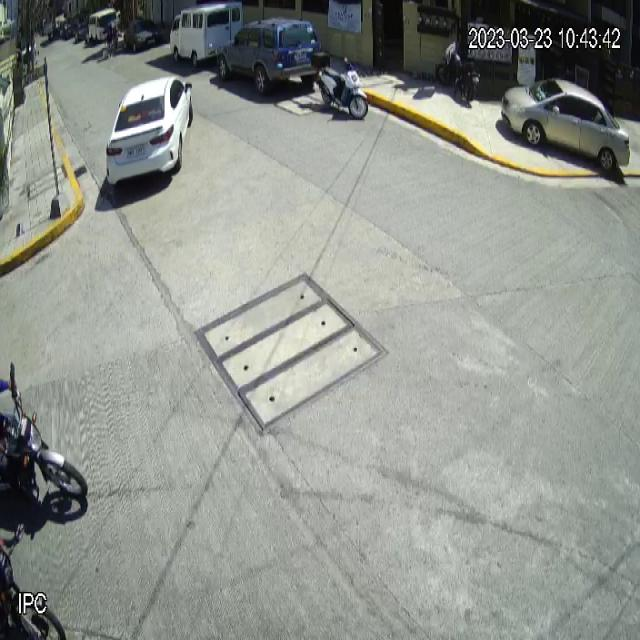Car: (500, 78, 630, 174), (105, 75, 195, 188), (218, 15, 322, 96)
Motorcycle: (310, 50, 369, 117)
Van: (169, 2, 244, 68)
